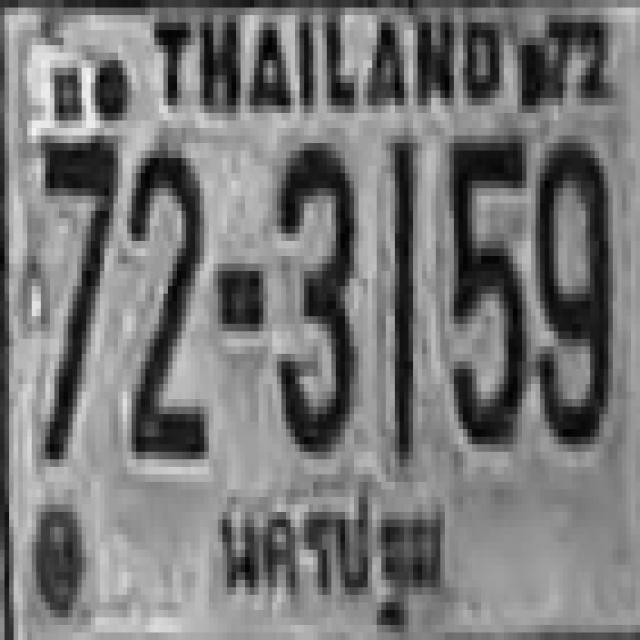1: (388, 136, 415, 452)
2: (127, 140, 204, 456)
3: (272, 136, 354, 444)
5: (445, 128, 522, 437)
7: (38, 132, 116, 456), (41, 132, 113, 358)
9: (531, 136, 608, 437)
NakhonPathom: (207, 482, 451, 630)
